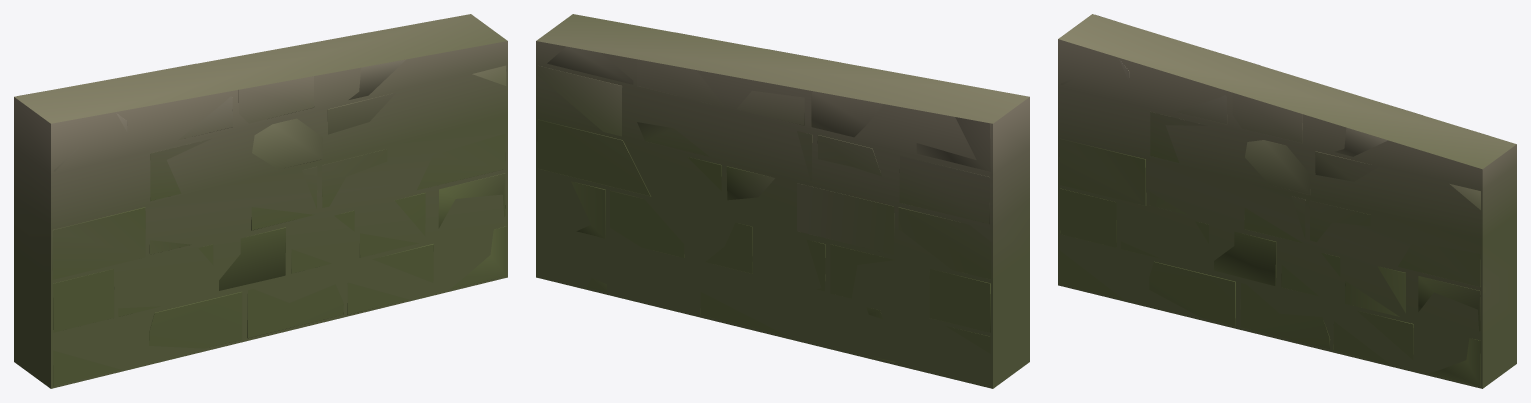
The model's file is citadel_blocking_left.glb.
3 views of the same model, side by side, from view 1: azimuth 30°, elevation 25°; view 2: azimuth 150°, elevation 25°; view 3: azimuth 330°, elevation 25° (orthographic). The views are drawn at different scales.
Parts seen in each view (by area): view 1: citadel_blocking_left_far, citadel_blocking_left; view 2: citadel_blocking_left_far, citadel_blocking_left; view 3: citadel_blocking_left_far, citadel_blocking_left.
Boxes of the visible parts, box(x1,y1,x2,y2) form: citadel_blocking_left_far: box(14, 14, 507, 388); citadel_blocking_left: box(17, 32, 506, 386); citadel_blocking_left_far: box(536, 14, 1029, 388); citadel_blocking_left: box(537, 32, 991, 364); citadel_blocking_left_far: box(1058, 14, 1516, 388); citadel_blocking_left: box(1059, 14, 1480, 386).
Size of the model in its own units: 14.3 by 7.93 by 2.02.
